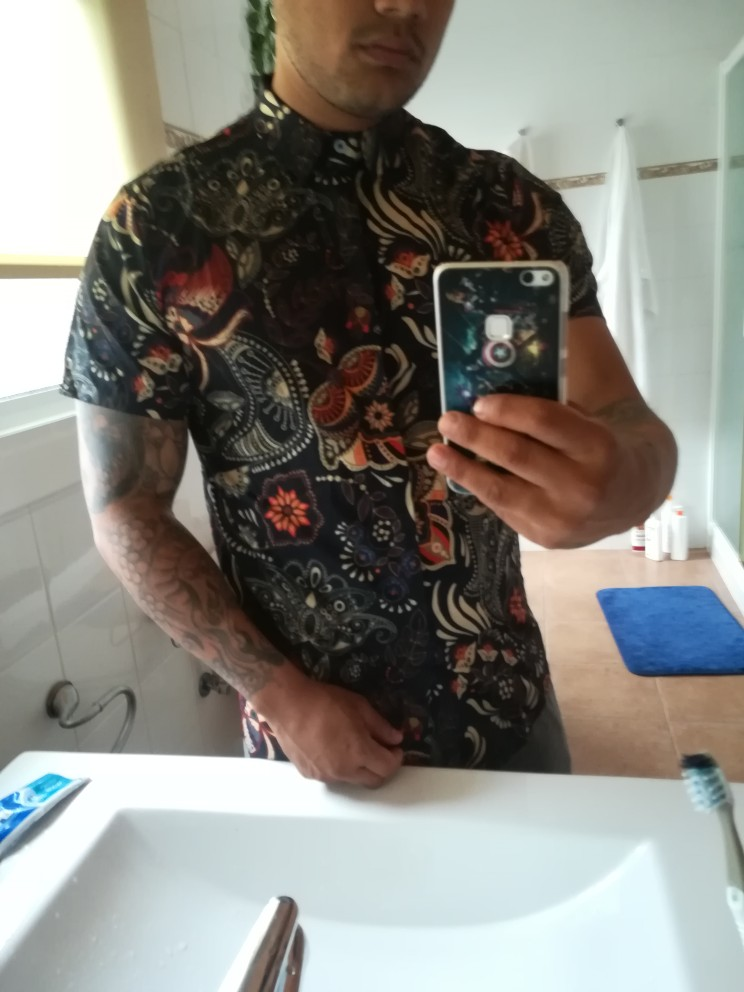shirts: (58, 77, 603, 746)
